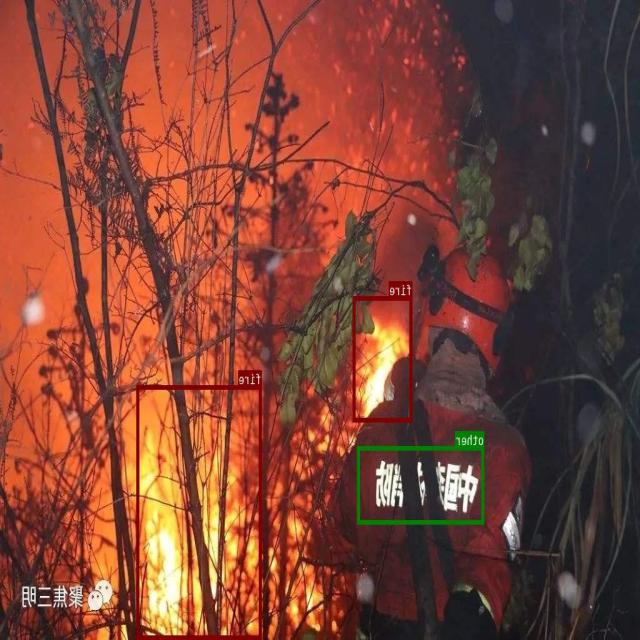fire: (138, 384, 262, 638), (353, 296, 413, 422)
other: (358, 445, 484, 524)
